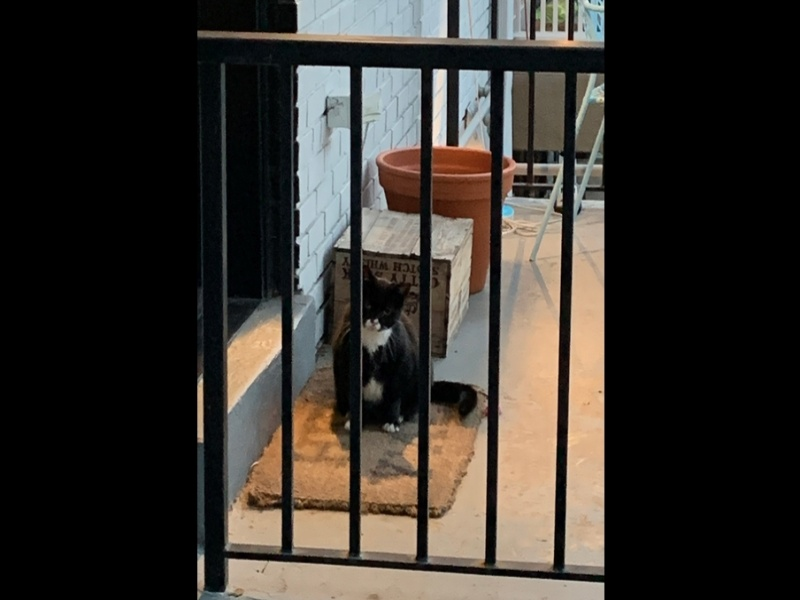cat: (324, 269, 481, 443)
